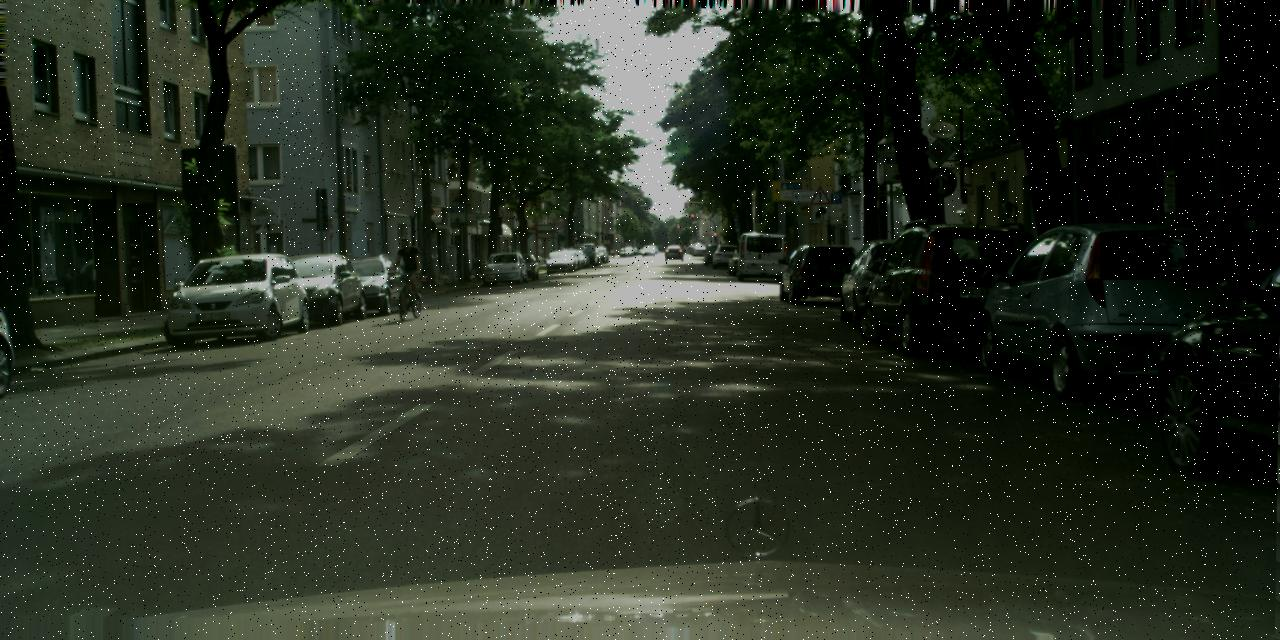ped: (393, 236, 422, 306)
